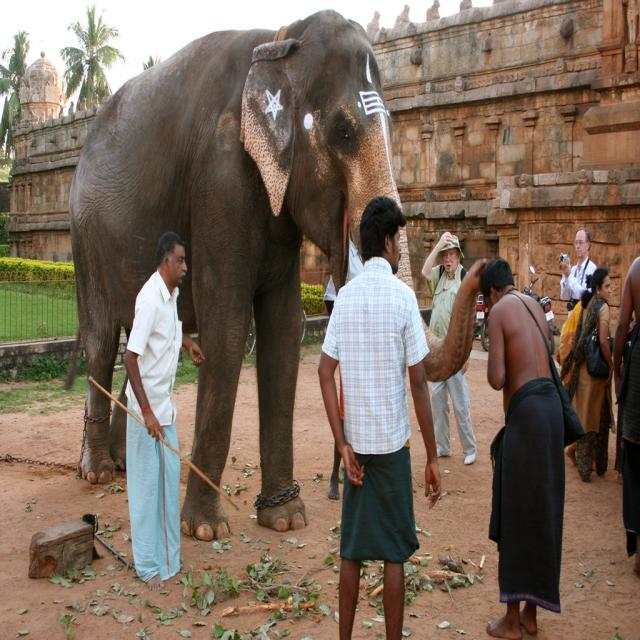elephant: (66, 7, 496, 540)
